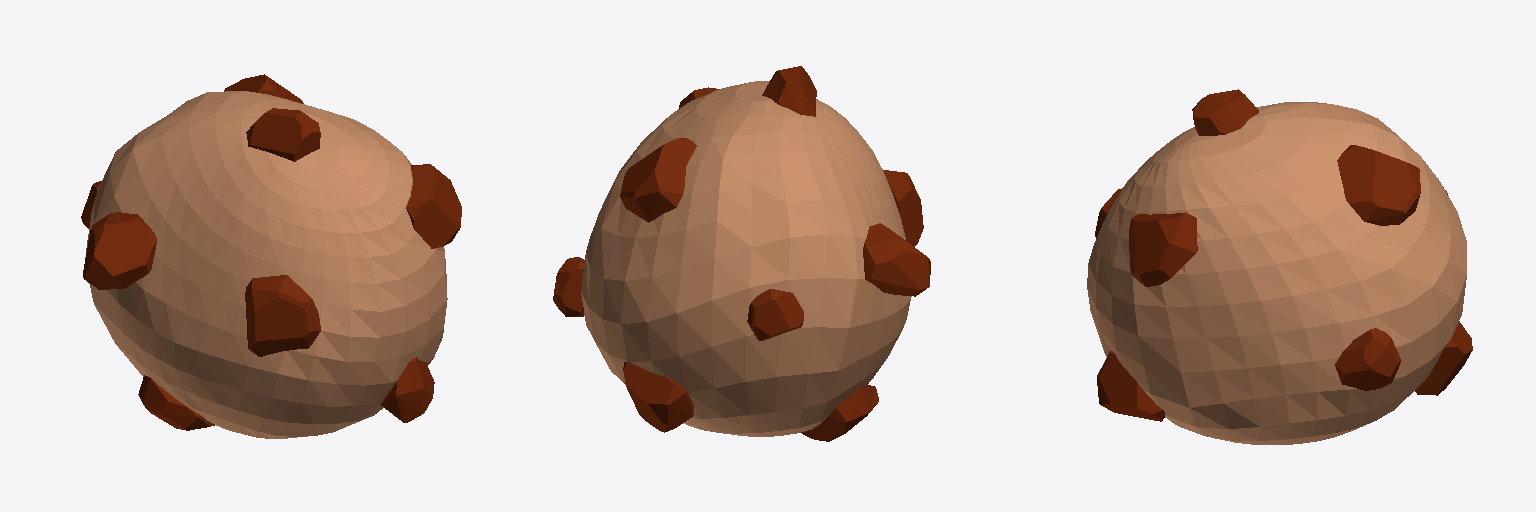
File: dough.obj
3 renders of one model, left to right at view 1: azimuth 30°, elevation 25°; view 2: azimuth 150°, elevation 25°; view 3: azimuth 270°, elevation 25°, orthographic.
Visible parts, largest first — view 1: Sphere, Cube.014, Cube.019, Cube.012, Cube.013, Cube.017, Cube.016, Cube.011; view 2: Sphere, Cube.011, Cube.019, Cube.018, Cube.015, Cube.016, Cube.013, Cube.014, Cube.010; view 3: Sphere, Cube.011, Cube.012, Cube.010, Cube.017, Cube.013, Cube.018.
Part boxes in pixels (x1,y1,x2,y2): Sphere: (85,91,447,438); Cube.014: (245,275,320,356); Cube.019: (83,212,156,289); Cube.012: (406,164,461,248); Cube.013: (246,108,320,161); Cube.017: (380,357,434,422); Cube.016: (138,375,214,430); Cube.011: (224,74,303,103); Sphere: (581,81,911,436); Cube.011: (620,138,696,222); Cube.019: (863,223,930,296); Cube.018: (623,361,693,432); Cube.015: (747,289,803,340); Cube.016: (801,385,878,441); Cube.013: (762,66,816,116); Cube.014: (883,170,923,246); Cube.010: (553,257,584,316); Sphere: (1087,102,1466,444); Cube.011: (1337,145,1420,225); Cube.012: (1129,212,1197,286); Cube.010: (1335,328,1400,390); Cube.017: (1097,351,1164,421); Cube.013: (1192,89,1258,135); Cube.018: (1415,321,1472,395).
Bounding box in the file's own units: 0.0415 × 0.0388 × 0.0415.